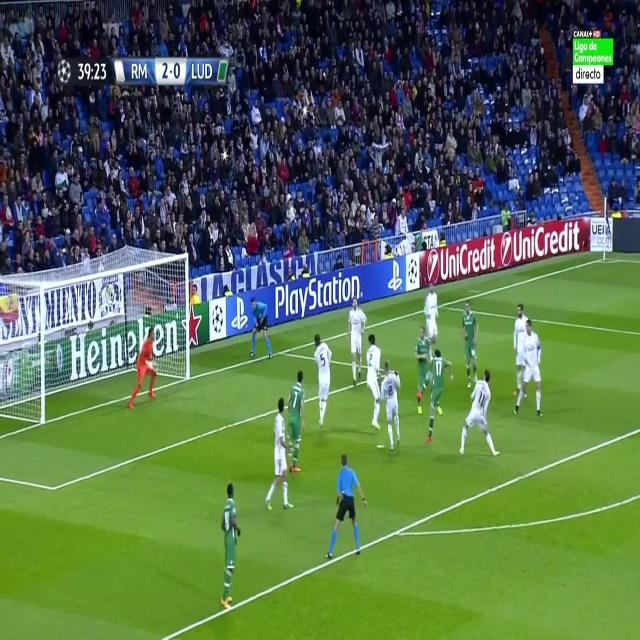Goalkeeper: (128, 327, 158, 410)
Player: (459, 366, 503, 457), (417, 350, 454, 446), (264, 398, 293, 512), (218, 482, 242, 616), (514, 321, 543, 423), (378, 357, 404, 453), (346, 296, 369, 384), (312, 331, 333, 425), (288, 366, 306, 475), (364, 331, 382, 436), (460, 300, 480, 390), (414, 328, 433, 417), (511, 303, 526, 382), (424, 283, 442, 347)
Referee: (324, 451, 368, 565), (250, 295, 271, 363)
